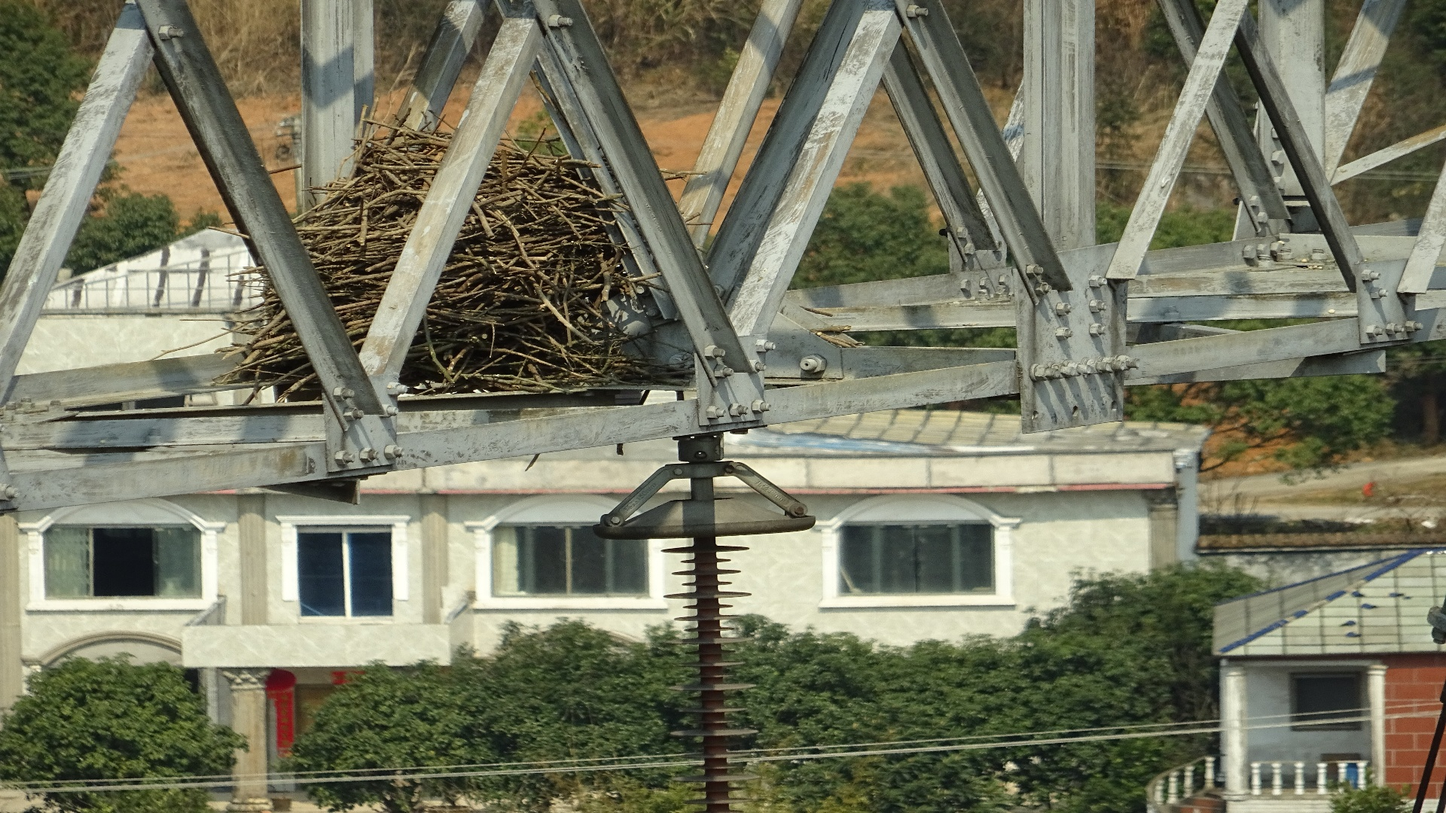insulator: (651, 537, 761, 813)
